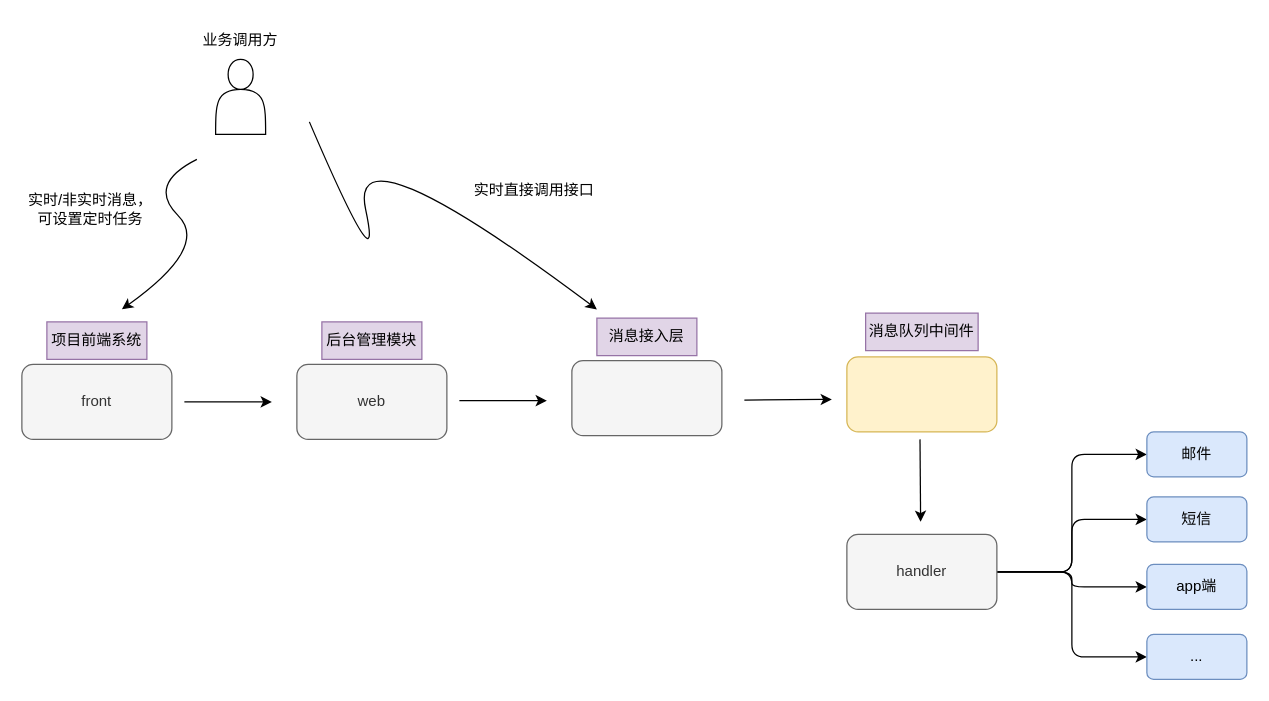
Some shapes in this 1269 by 701 pixel diagram are drawn without their labels. The centre of each missing label's shape, as x and y in pixels:
"api" belongs at point 646,397.
"Kafka" belongs at point 921,394.
